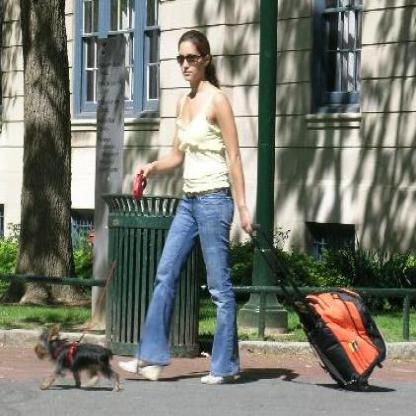person: (126, 22, 254, 382)
